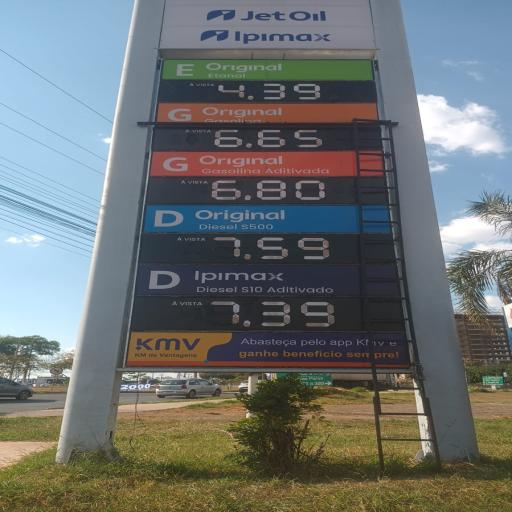ETANOL: (167, 60, 288, 78)
GASOLINA AD: (152, 151, 339, 174)
GASOLINA C: (158, 104, 292, 122)
S10: (143, 267, 344, 295)
S500: (149, 206, 292, 232)
placa: (128, 47, 395, 377)
preco: (203, 300, 348, 330), (210, 234, 344, 262), (207, 179, 332, 202), (212, 128, 331, 150), (212, 81, 327, 101)
